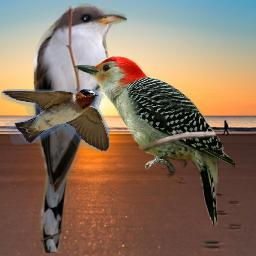Cuckoo: (31, 3, 127, 253)
Swallow: (1, 89, 110, 152)
Woodpecker: (74, 55, 235, 226)
